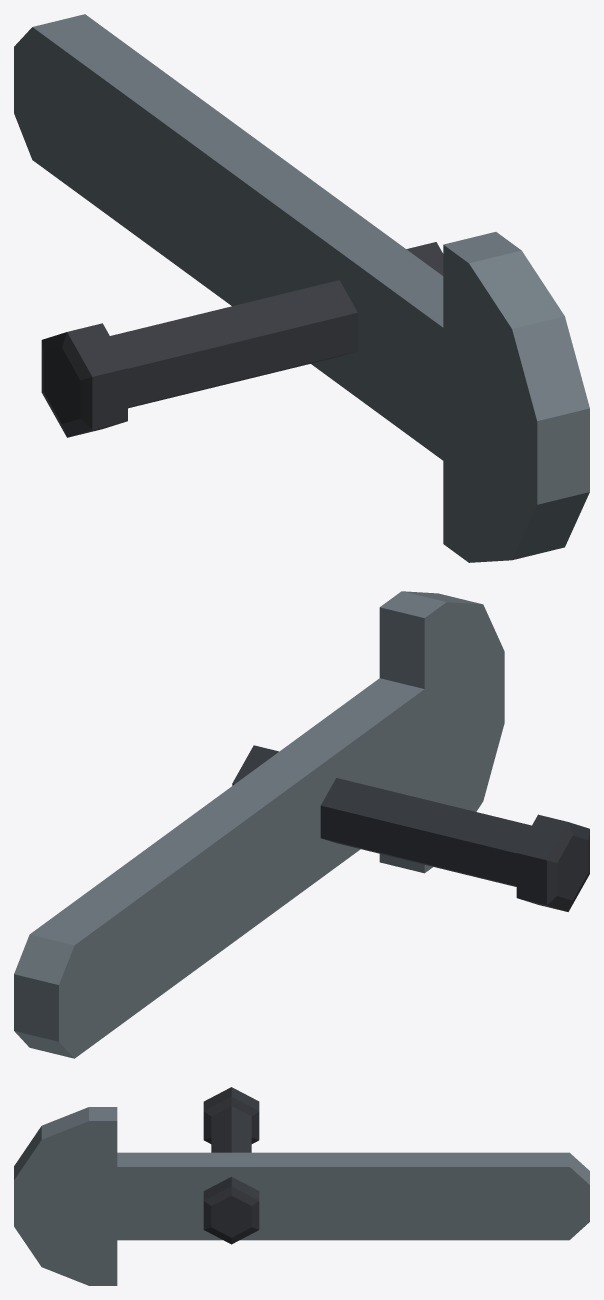
File: SM_Prop_Gym_Leg_Curl_01_Arm_02.obj
3 views of the same model, one above another, from view 1: azimuth 30°, elevation 25°; view 2: azimuth 150°, elevation 25°; view 3: azimuth 270°, elevation 25° (orthographic). The views are drawn at different scales.
Visible parts, largest first — view 1: SM_Prop_Gym_Leg_Curl_01_Arm_02_0; view 2: SM_Prop_Gym_Leg_Curl_01_Arm_02_0; view 3: SM_Prop_Gym_Leg_Curl_01_Arm_02_0.
Part boxes in pixels (box(x1,y1,x2,y2)): SM_Prop_Gym_Leg_Curl_01_Arm_02_0: box(14, 14, 589, 562); SM_Prop_Gym_Leg_Curl_01_Arm_02_0: box(14, 591, 589, 1058); SM_Prop_Gym_Leg_Curl_01_Arm_02_0: box(14, 1087, 589, 1285).
Bounding box in the file's own units: 0.3132 × 0.2361 × 0.7477.
Materials: 1 (1 with a texture image).
